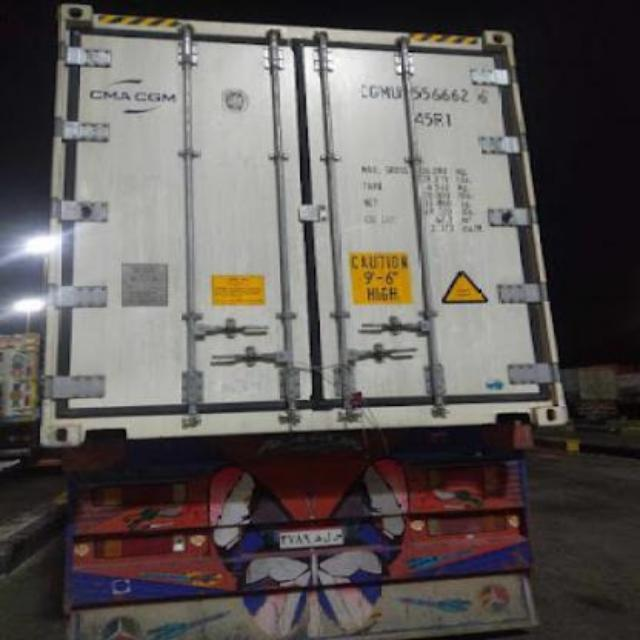2: (458, 84, 472, 106)
5: (422, 81, 434, 102), (412, 84, 420, 105)
6: (478, 87, 494, 107), (450, 82, 460, 108), (442, 84, 454, 105), (434, 84, 444, 106)
C: (356, 80, 369, 102)
G: (368, 81, 380, 101)
M: (378, 83, 390, 101)
U: (391, 83, 404, 103)
